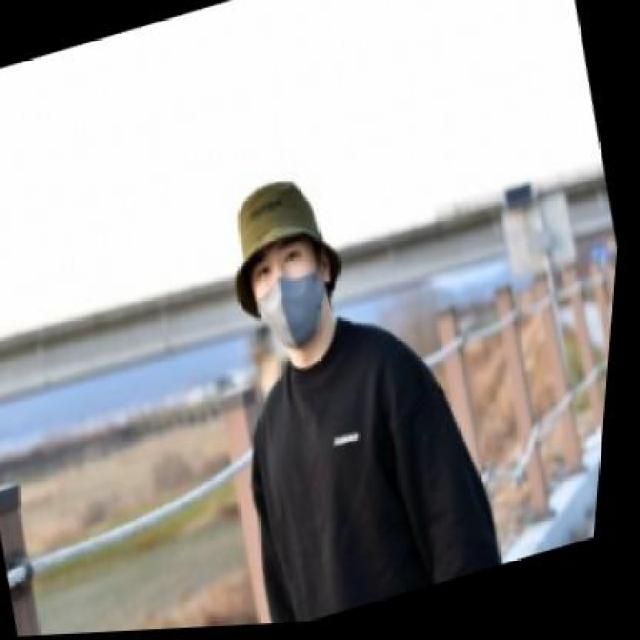hat: (211, 166, 364, 332)
